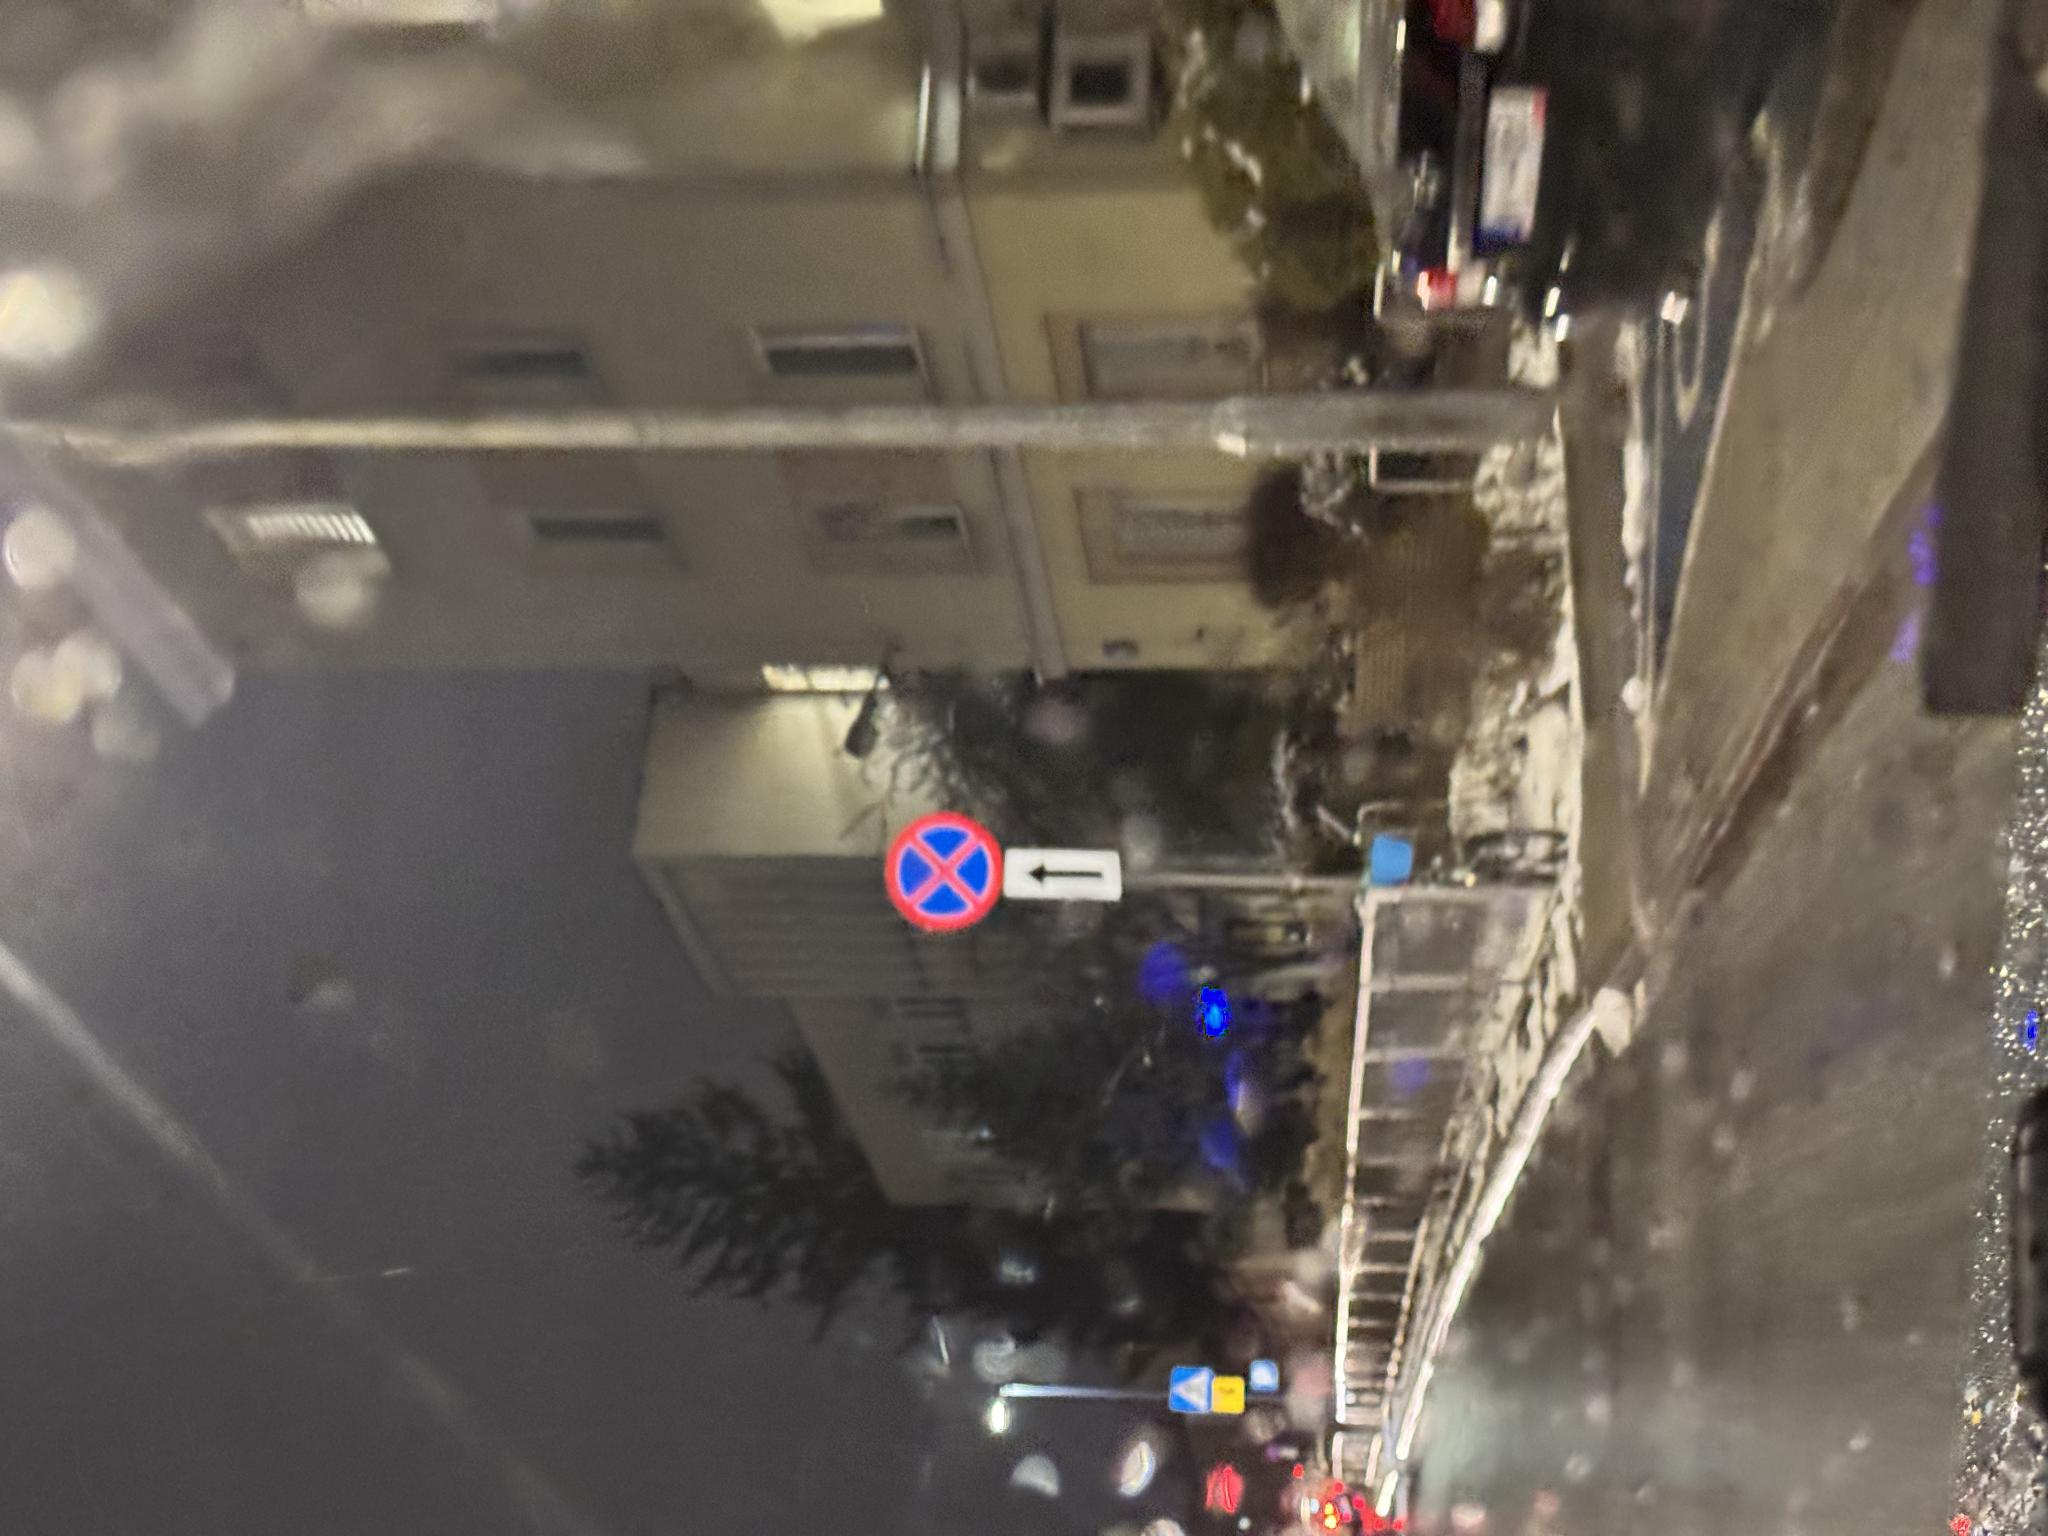information: (124, 1167, 171, 1212)
other: (637, 1005, 692, 1121), (123, 1212, 160, 1246)
prohibitory: (605, 883, 727, 1004)
